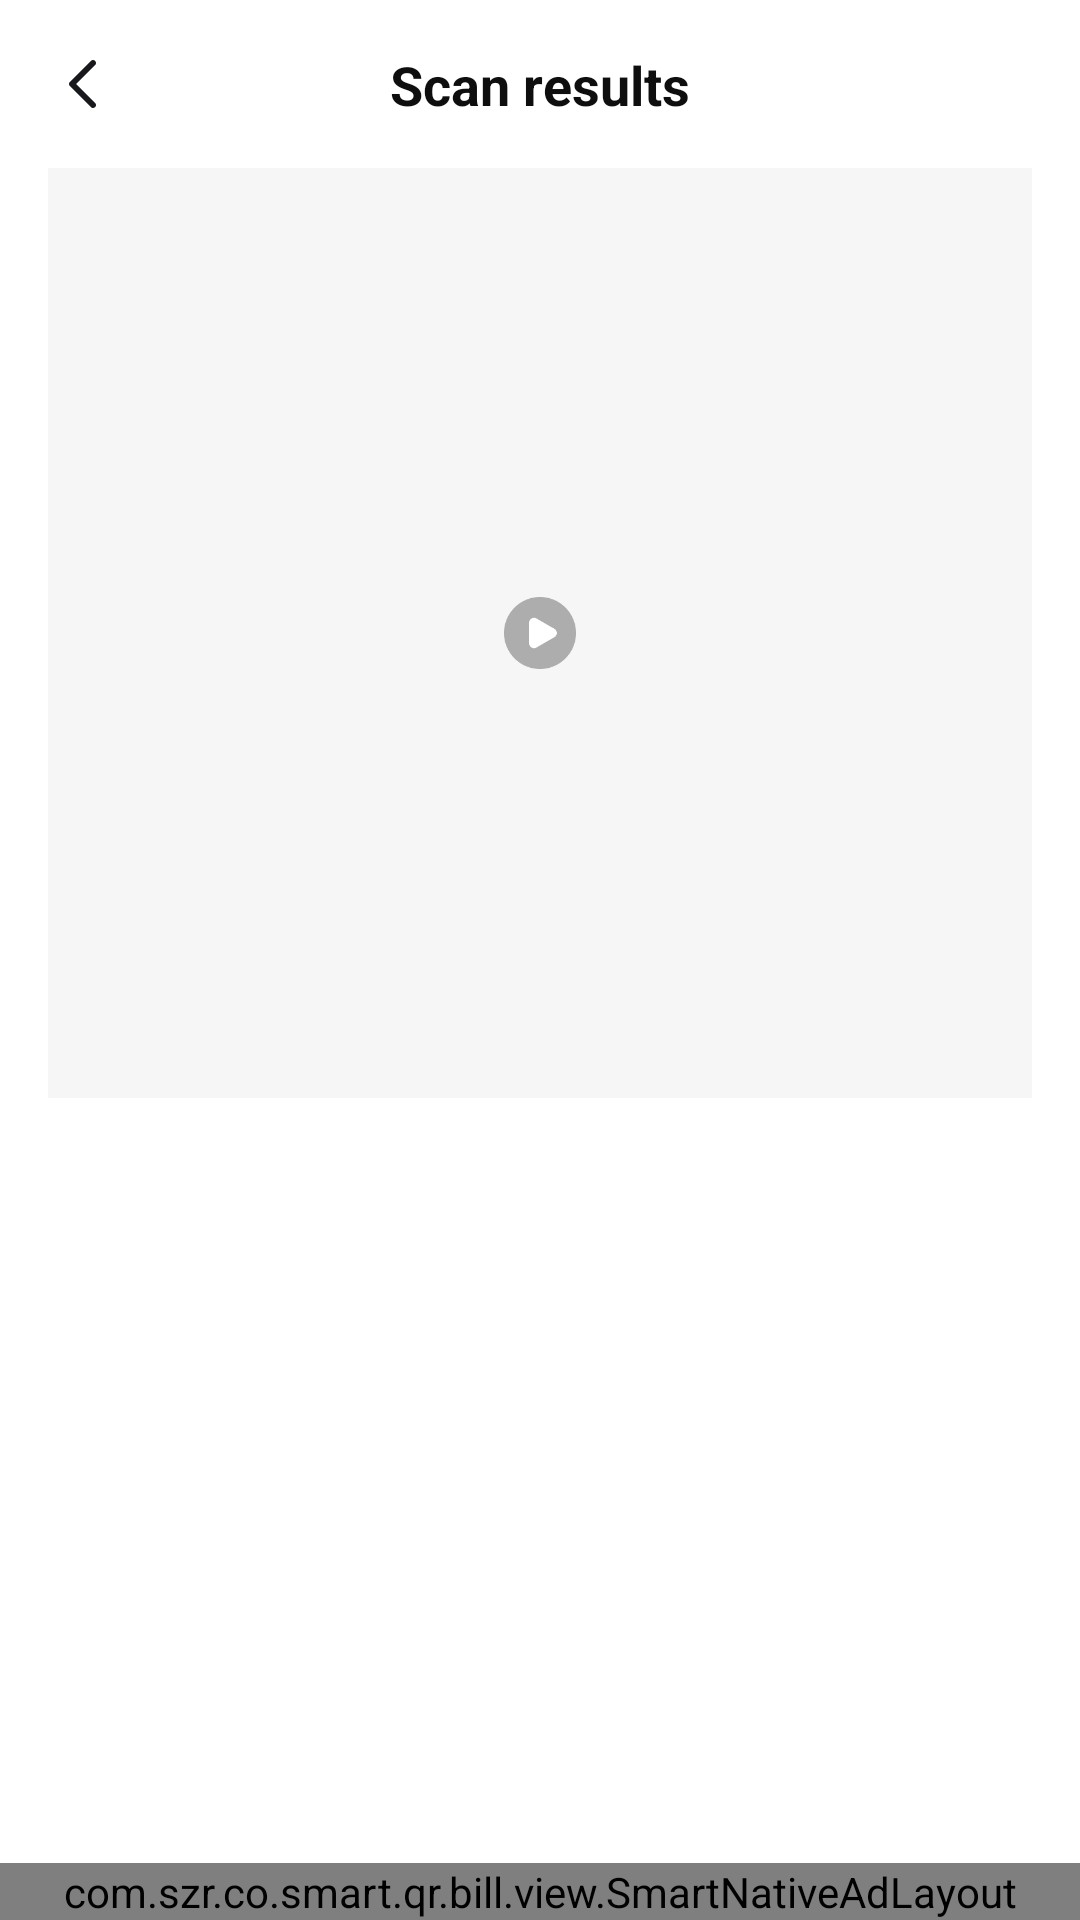

Screen size 1080×1920. Icon name, then its center in pixels as [x,y]:
arrow back: [82,84]
play: [540,633]
